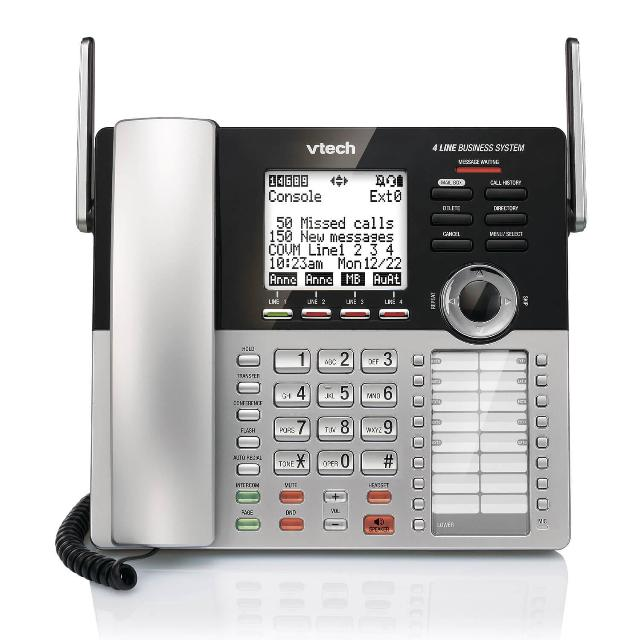Telephone-Set: (28, 68, 582, 578)
